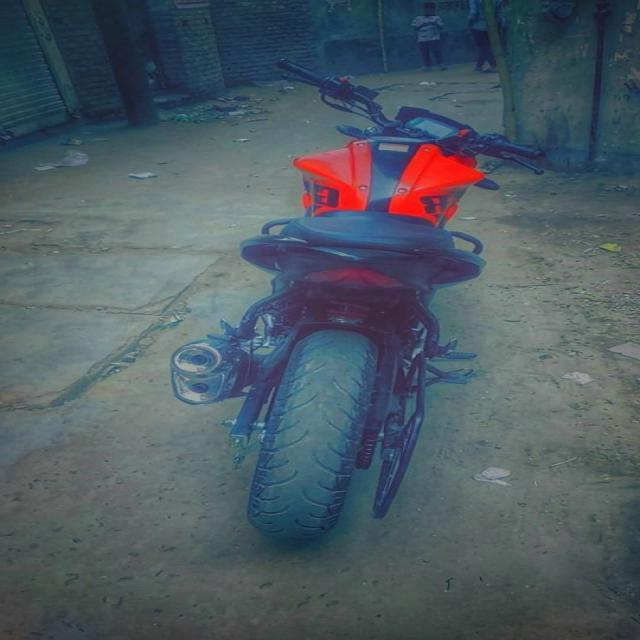Motorbike: (131, 23, 586, 569)
